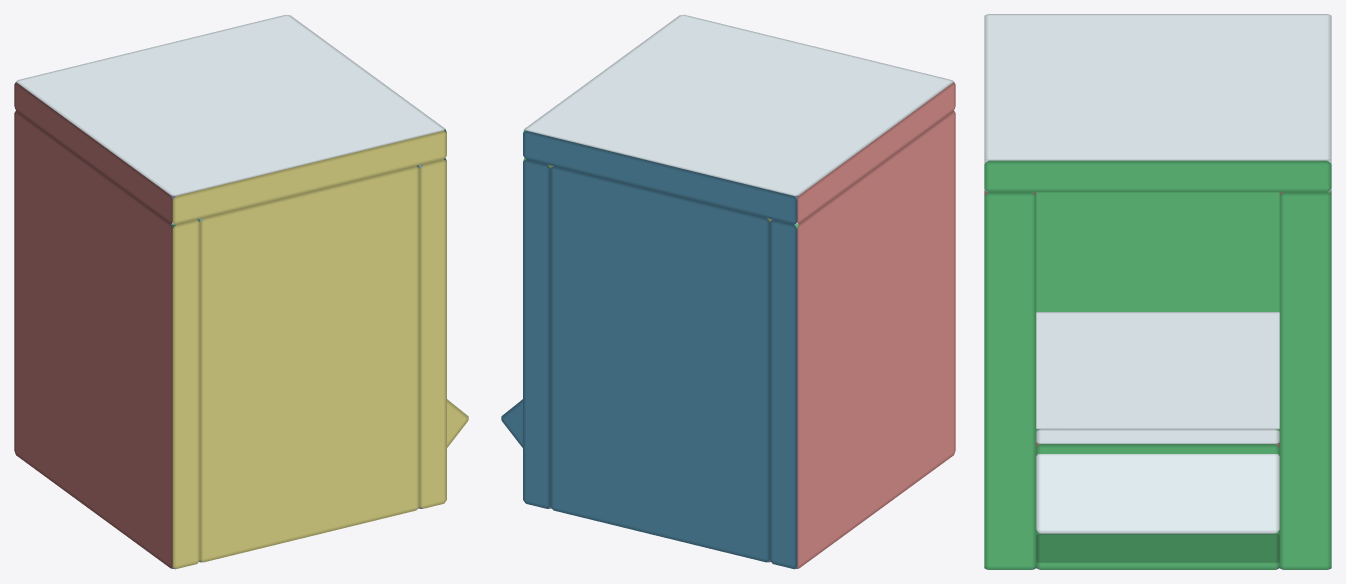
The model's file is antidote_stand.obj.
3 renders of one model, left to right at view 1: azimuth 30°, elevation 25°; view 2: azimuth 150°, elevation 25°; view 3: azimuth 270°, elevation 25°, orthographic. The views are drawn at different scales.
Parts seen in each view (by area): view 1: mesh; view 2: mesh; view 3: mesh.
Part boxes in pixels (x1,y1,x2,y2): mesh: [14, 14, 468, 569]; mesh: [501, 14, 955, 569]; mesh: [984, 14, 1331, 569].
Size of the model in its own units: 2.93 by 3.25 by 2.5.
Materials: 1 (1 with a texture image).
